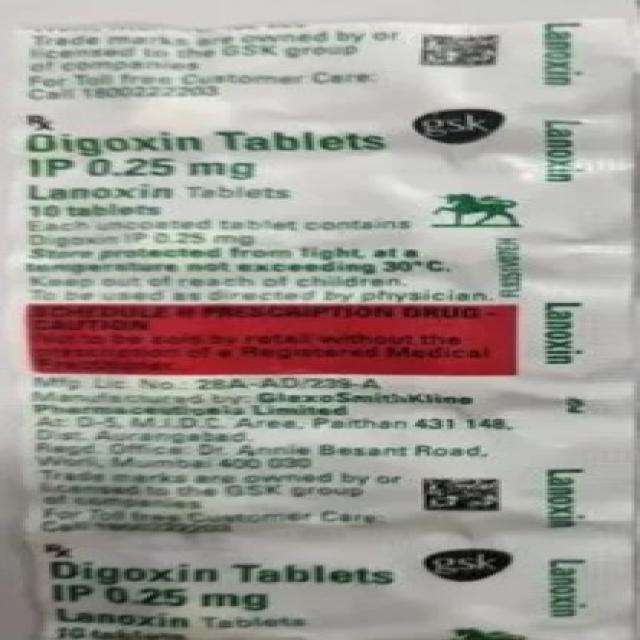Medicine-name: (27, 130, 401, 184)
